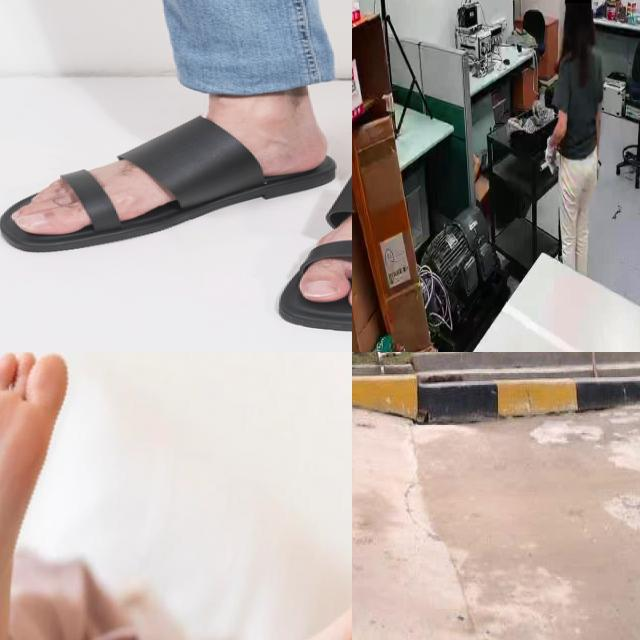Barefoots: (160, 523, 352, 640), (0, 352, 73, 640)
Sandals: (0, 107, 336, 252)
hand_glove: (541, 134, 559, 179)
person: (352, 352, 477, 596), (537, 0, 607, 276)
